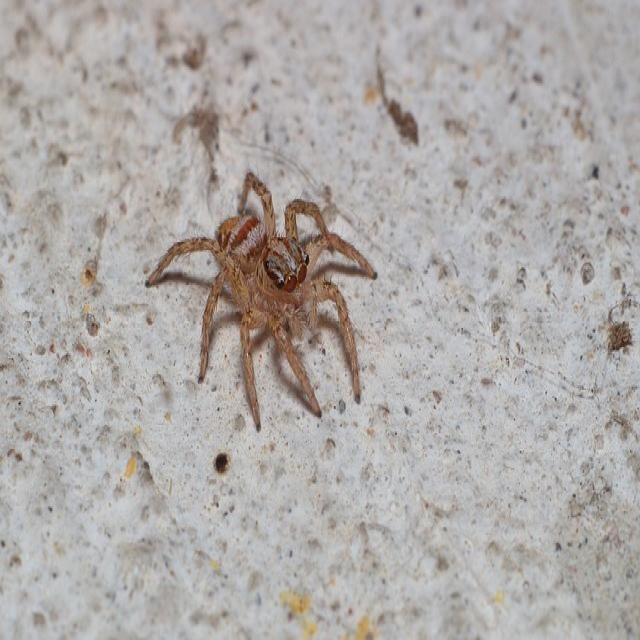spyder: (148, 171, 375, 427)
